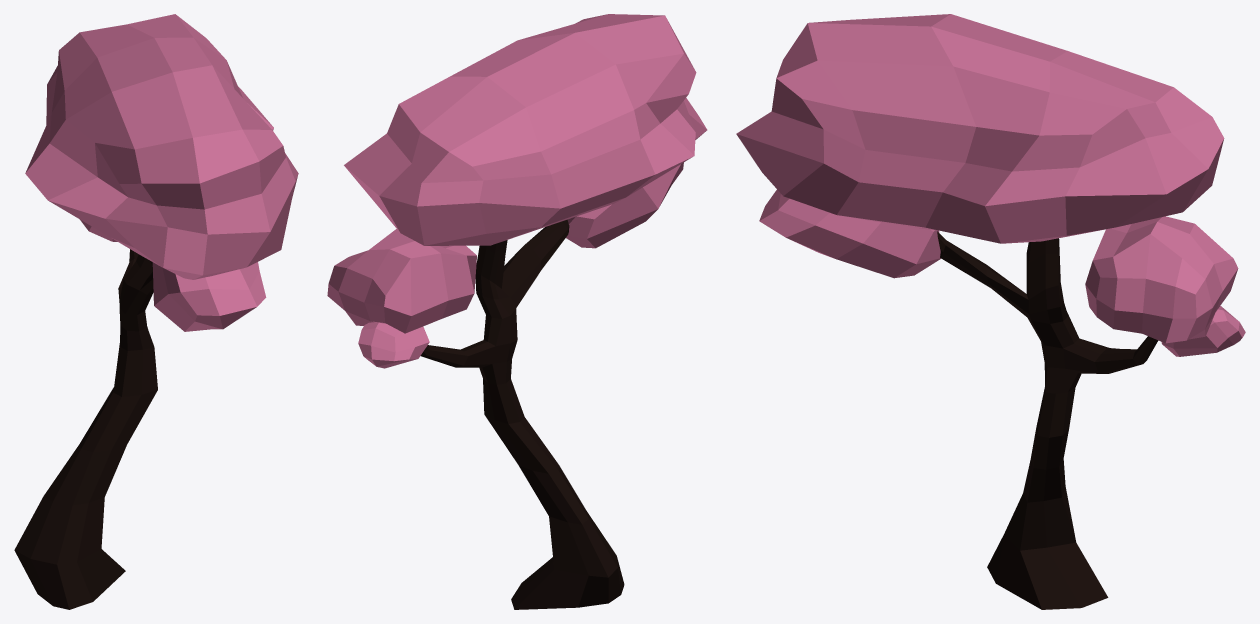
File: sakura2.DAE
3 views of the same model, side by side, from view 1: azimuth 30°, elevation 25°; view 2: azimuth 150°, elevation 25°; view 3: azimuth 270°, elevation 25° (orthographic). The views are drawn at different scales.
Parts seen in each view (by area): view 1: sakura2; view 2: sakura2; view 3: sakura2.
Part boxes in pixels (left/top/right/bottom): sakura2: left=14, top=14, right=298, bottom=609; sakura2: left=327, top=14, right=707, bottom=609; sakura2: left=736, top=14, right=1245, bottom=609.
Bounding box in the file's own units: 3758 × 7315 × 5789.
